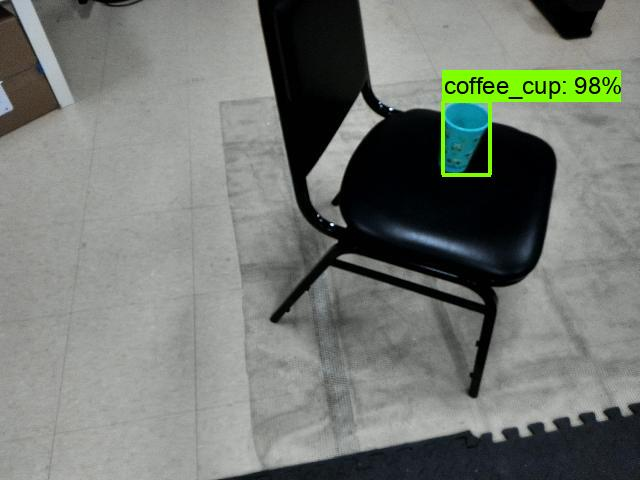coffee_cup: (440, 100, 490, 178)
